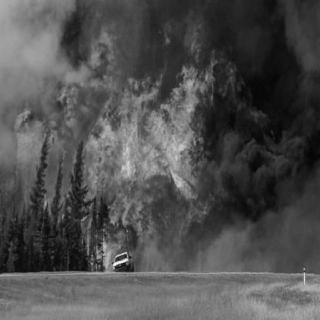Fire: (8, 62, 210, 258)
Smoke: (203, 14, 309, 260)
